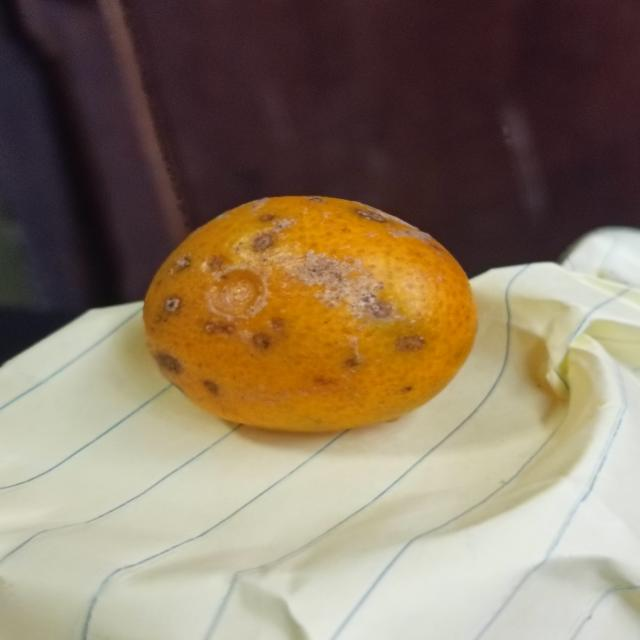black spot: (140, 196, 479, 436)
